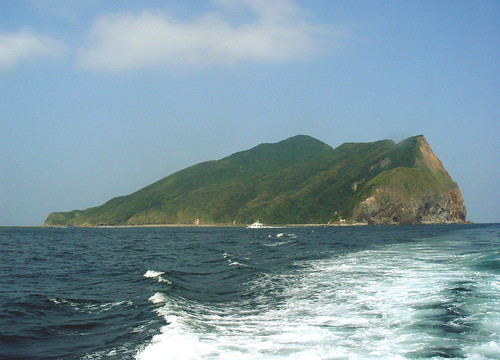turtleIsland: (45, 130, 468, 231)
